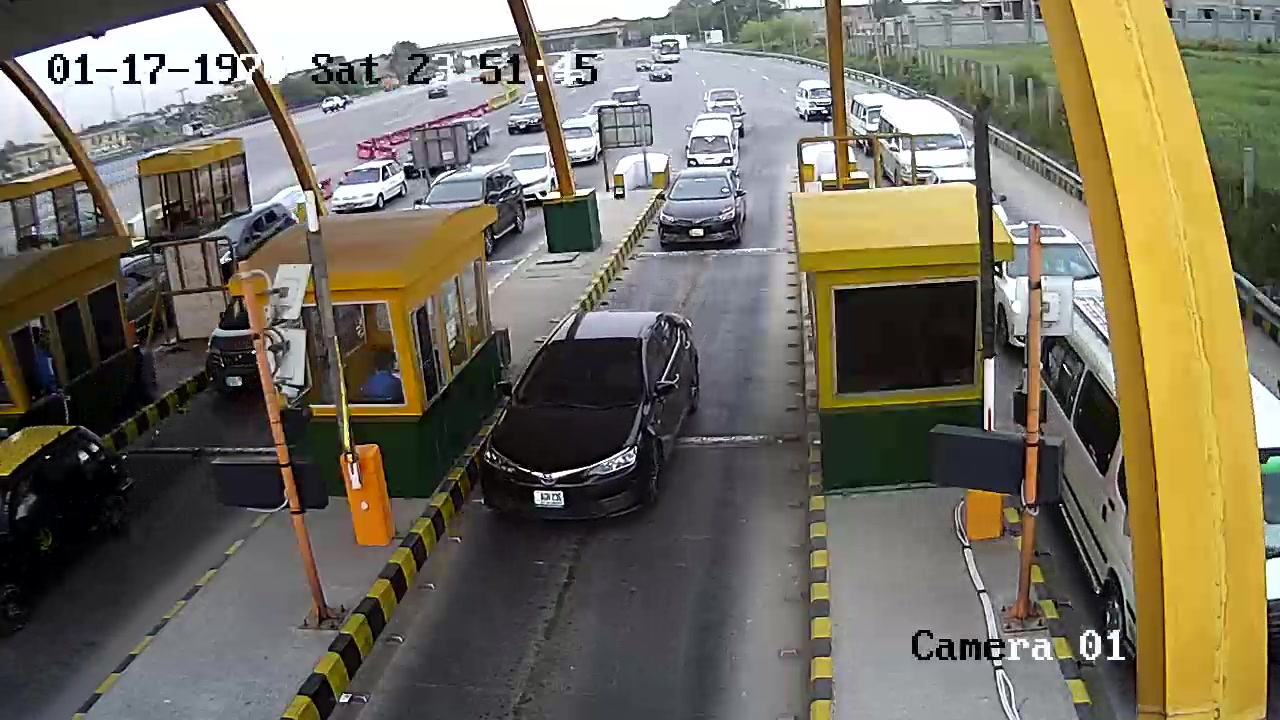F1: (478, 299, 714, 535)
